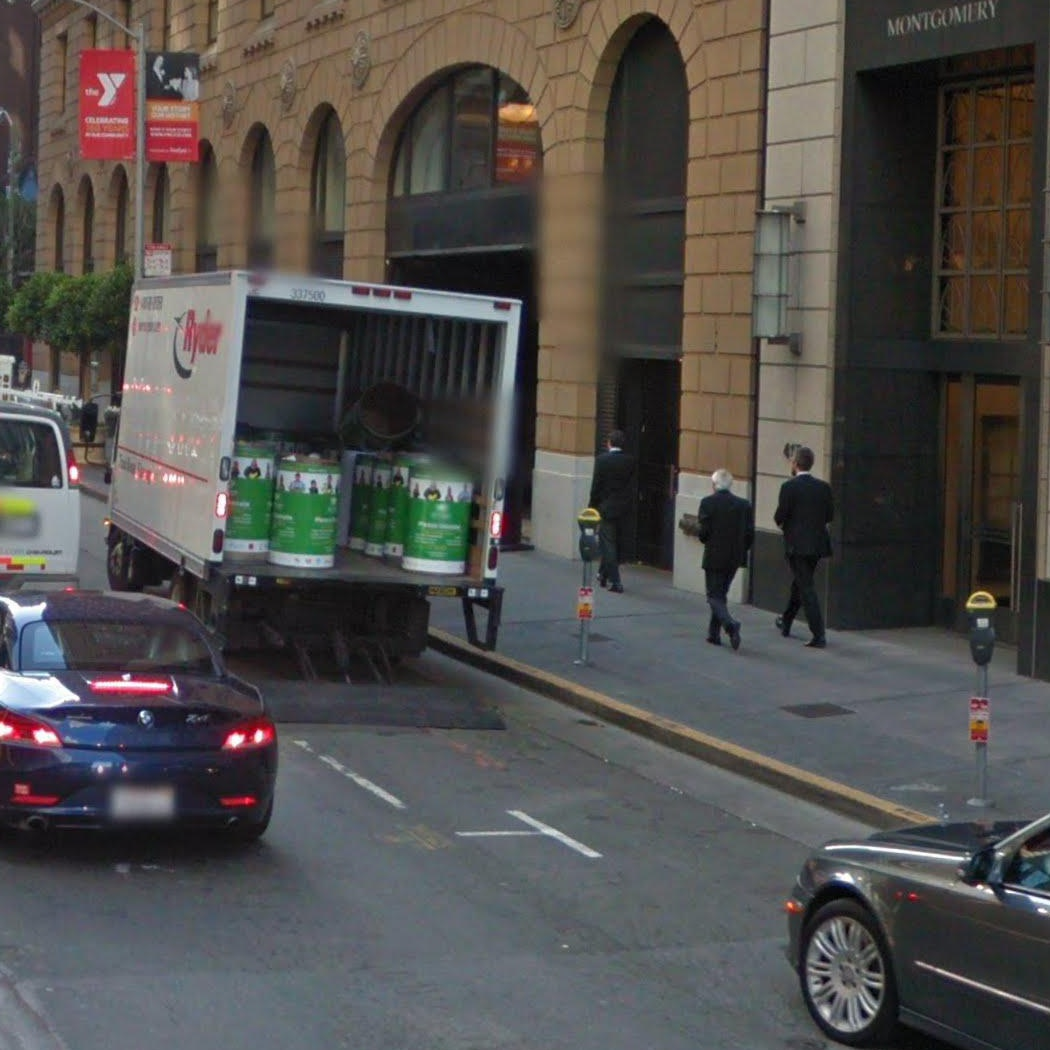No Parking: (143, 243, 172, 275)
